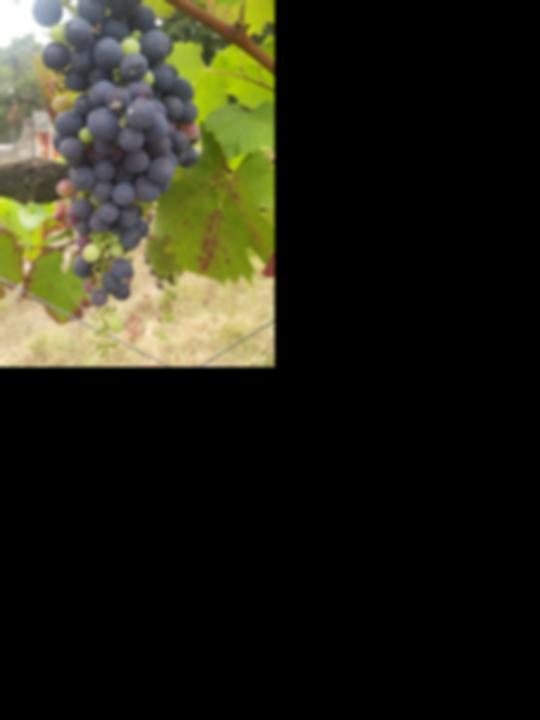grape: (30, 0, 201, 360)
